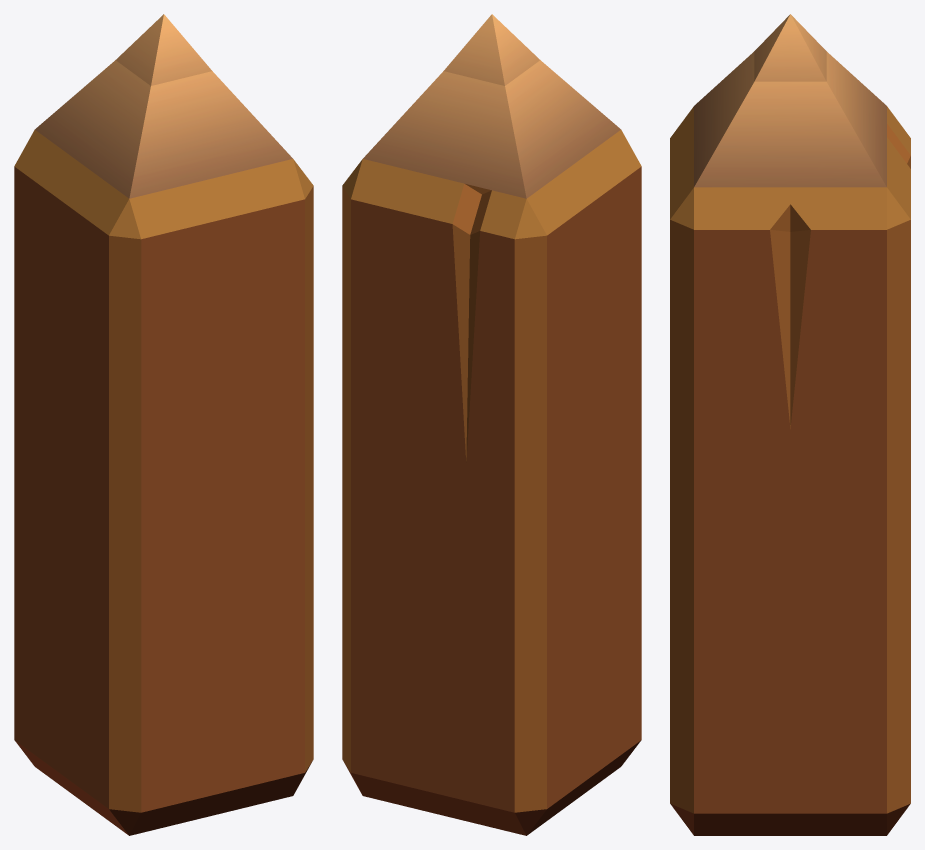
File: m_deco_fence.FBX
3 views of the same model, side by side, from view 1: azimuth 30°, elevation 25°; view 2: azimuth 150°, elevation 25°; view 3: azimuth 270°, elevation 25° (orthographic).
Parts seen in each view (by area): view 1: m_deco_fence; view 2: m_deco_fence; view 3: m_deco_fence.
Boxes of the visible parts, x1=… form: m_deco_fence: x1=14, y1=14, x2=313, y2=835; m_deco_fence: x1=342, y1=14, x2=641, y2=835; m_deco_fence: x1=670, y1=14, x2=910, y2=835.
Size of the model in its own units: 0.6729 by 2.41 by 0.6729.
